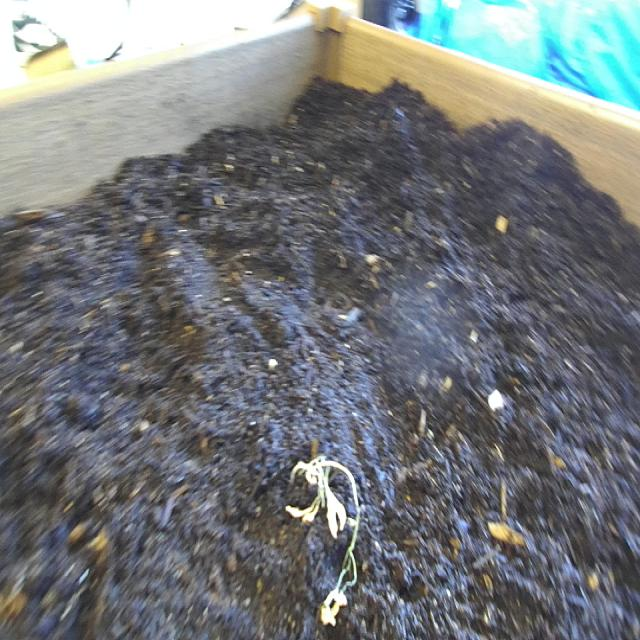Unhealthy: (286, 444, 366, 634)
